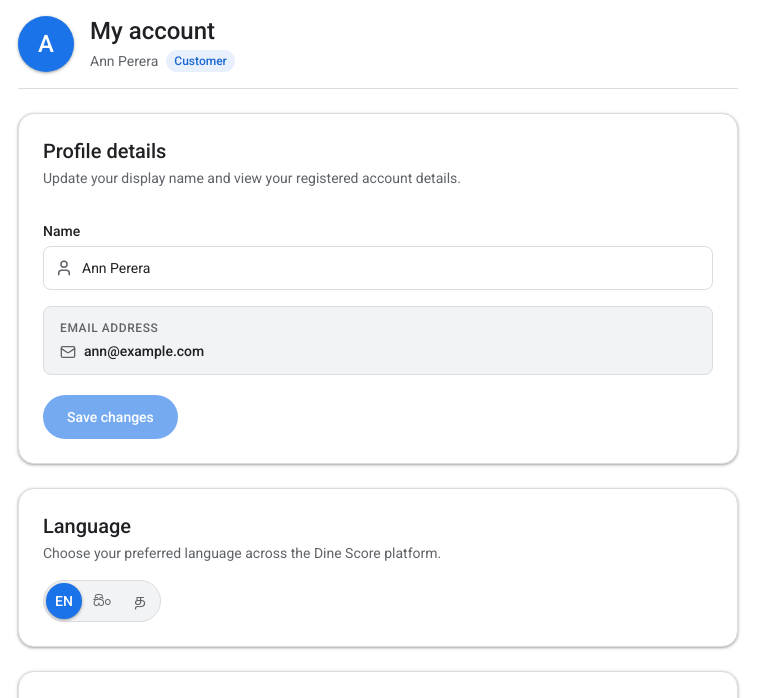
Test: AccountComponent › when saving fails › keeps what was typed, explains, and does not change the signed-in user
The image size is (757, 698).
Replace the text in the field with id "name" with "Ann Silva" at point(378, 268), box [43,246,713,290]
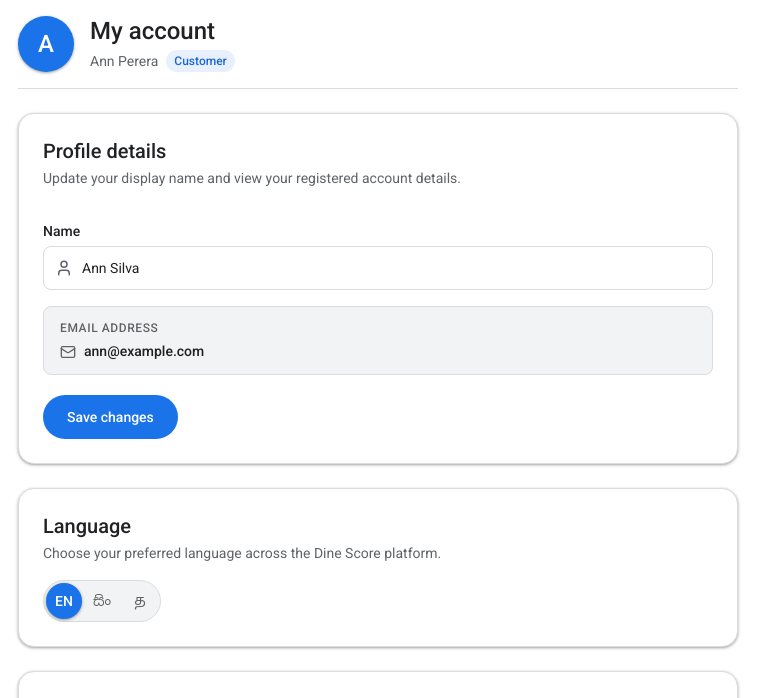
Submit the form, box [43,205,713,439]
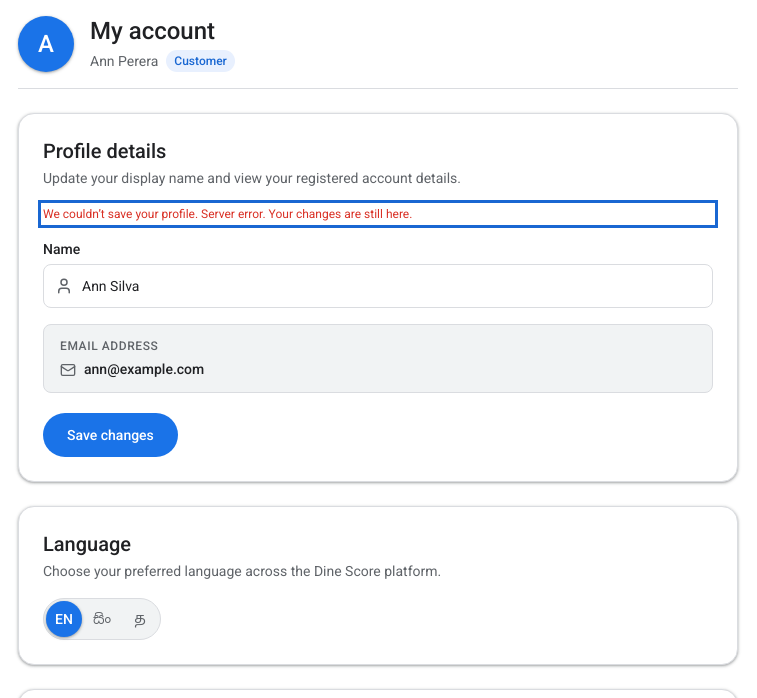
Expected: the text "Ann Perera" is shown, [90,50,158,72]
Expected: the message "We couldn’t save your profile. Server error. Your changes are still here." is shown, [43,207,412,221]
